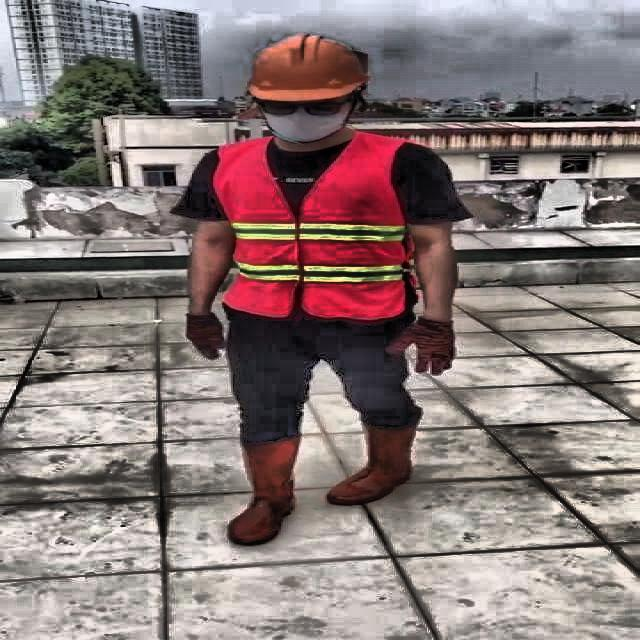safety_helmet: (240, 29, 374, 105)
safety_jacket: (218, 135, 414, 318)
